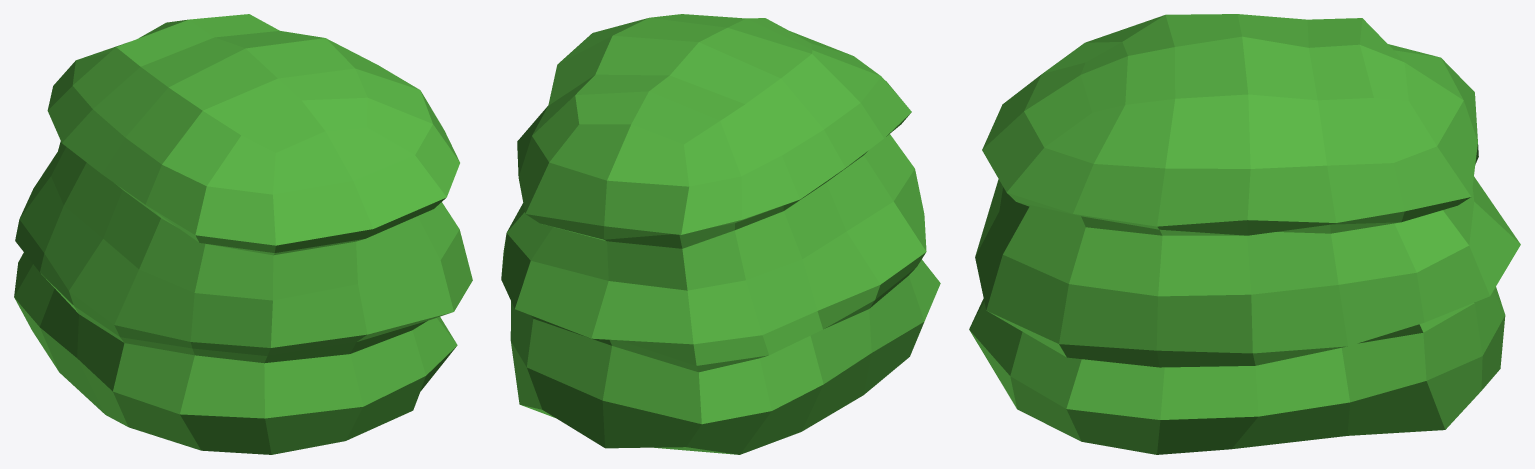
Rendered from bush.glb.
3 views of the same model, side by side, from view 1: azimuth 30°, elevation 25°; view 2: azimuth 150°, elevation 25°; view 3: azimuth 270°, elevation 25° (orthographic). The views are drawn at different scales.
Visible parts, largest first — view 1: Bush_1; view 2: Bush_1; view 3: Bush_1.
Boxes of the visible parts, <box> form: Bush_1: <box>14,14,472,454</box>; Bush_1: <box>501,14,940,454</box>; Bush_1: <box>969,14,1520,454</box>.
Bounding box in the file's own units: 1.86 × 1.74 × 2.37.
